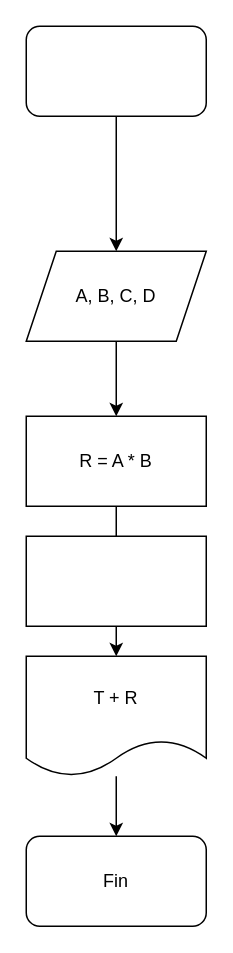
This 233x953 diagram has some shape labels left out. Each missing label, with the centre of its shape:
"Inicio" goes at point 115,70.
"T = C * D/2" goes at point 115,580.
